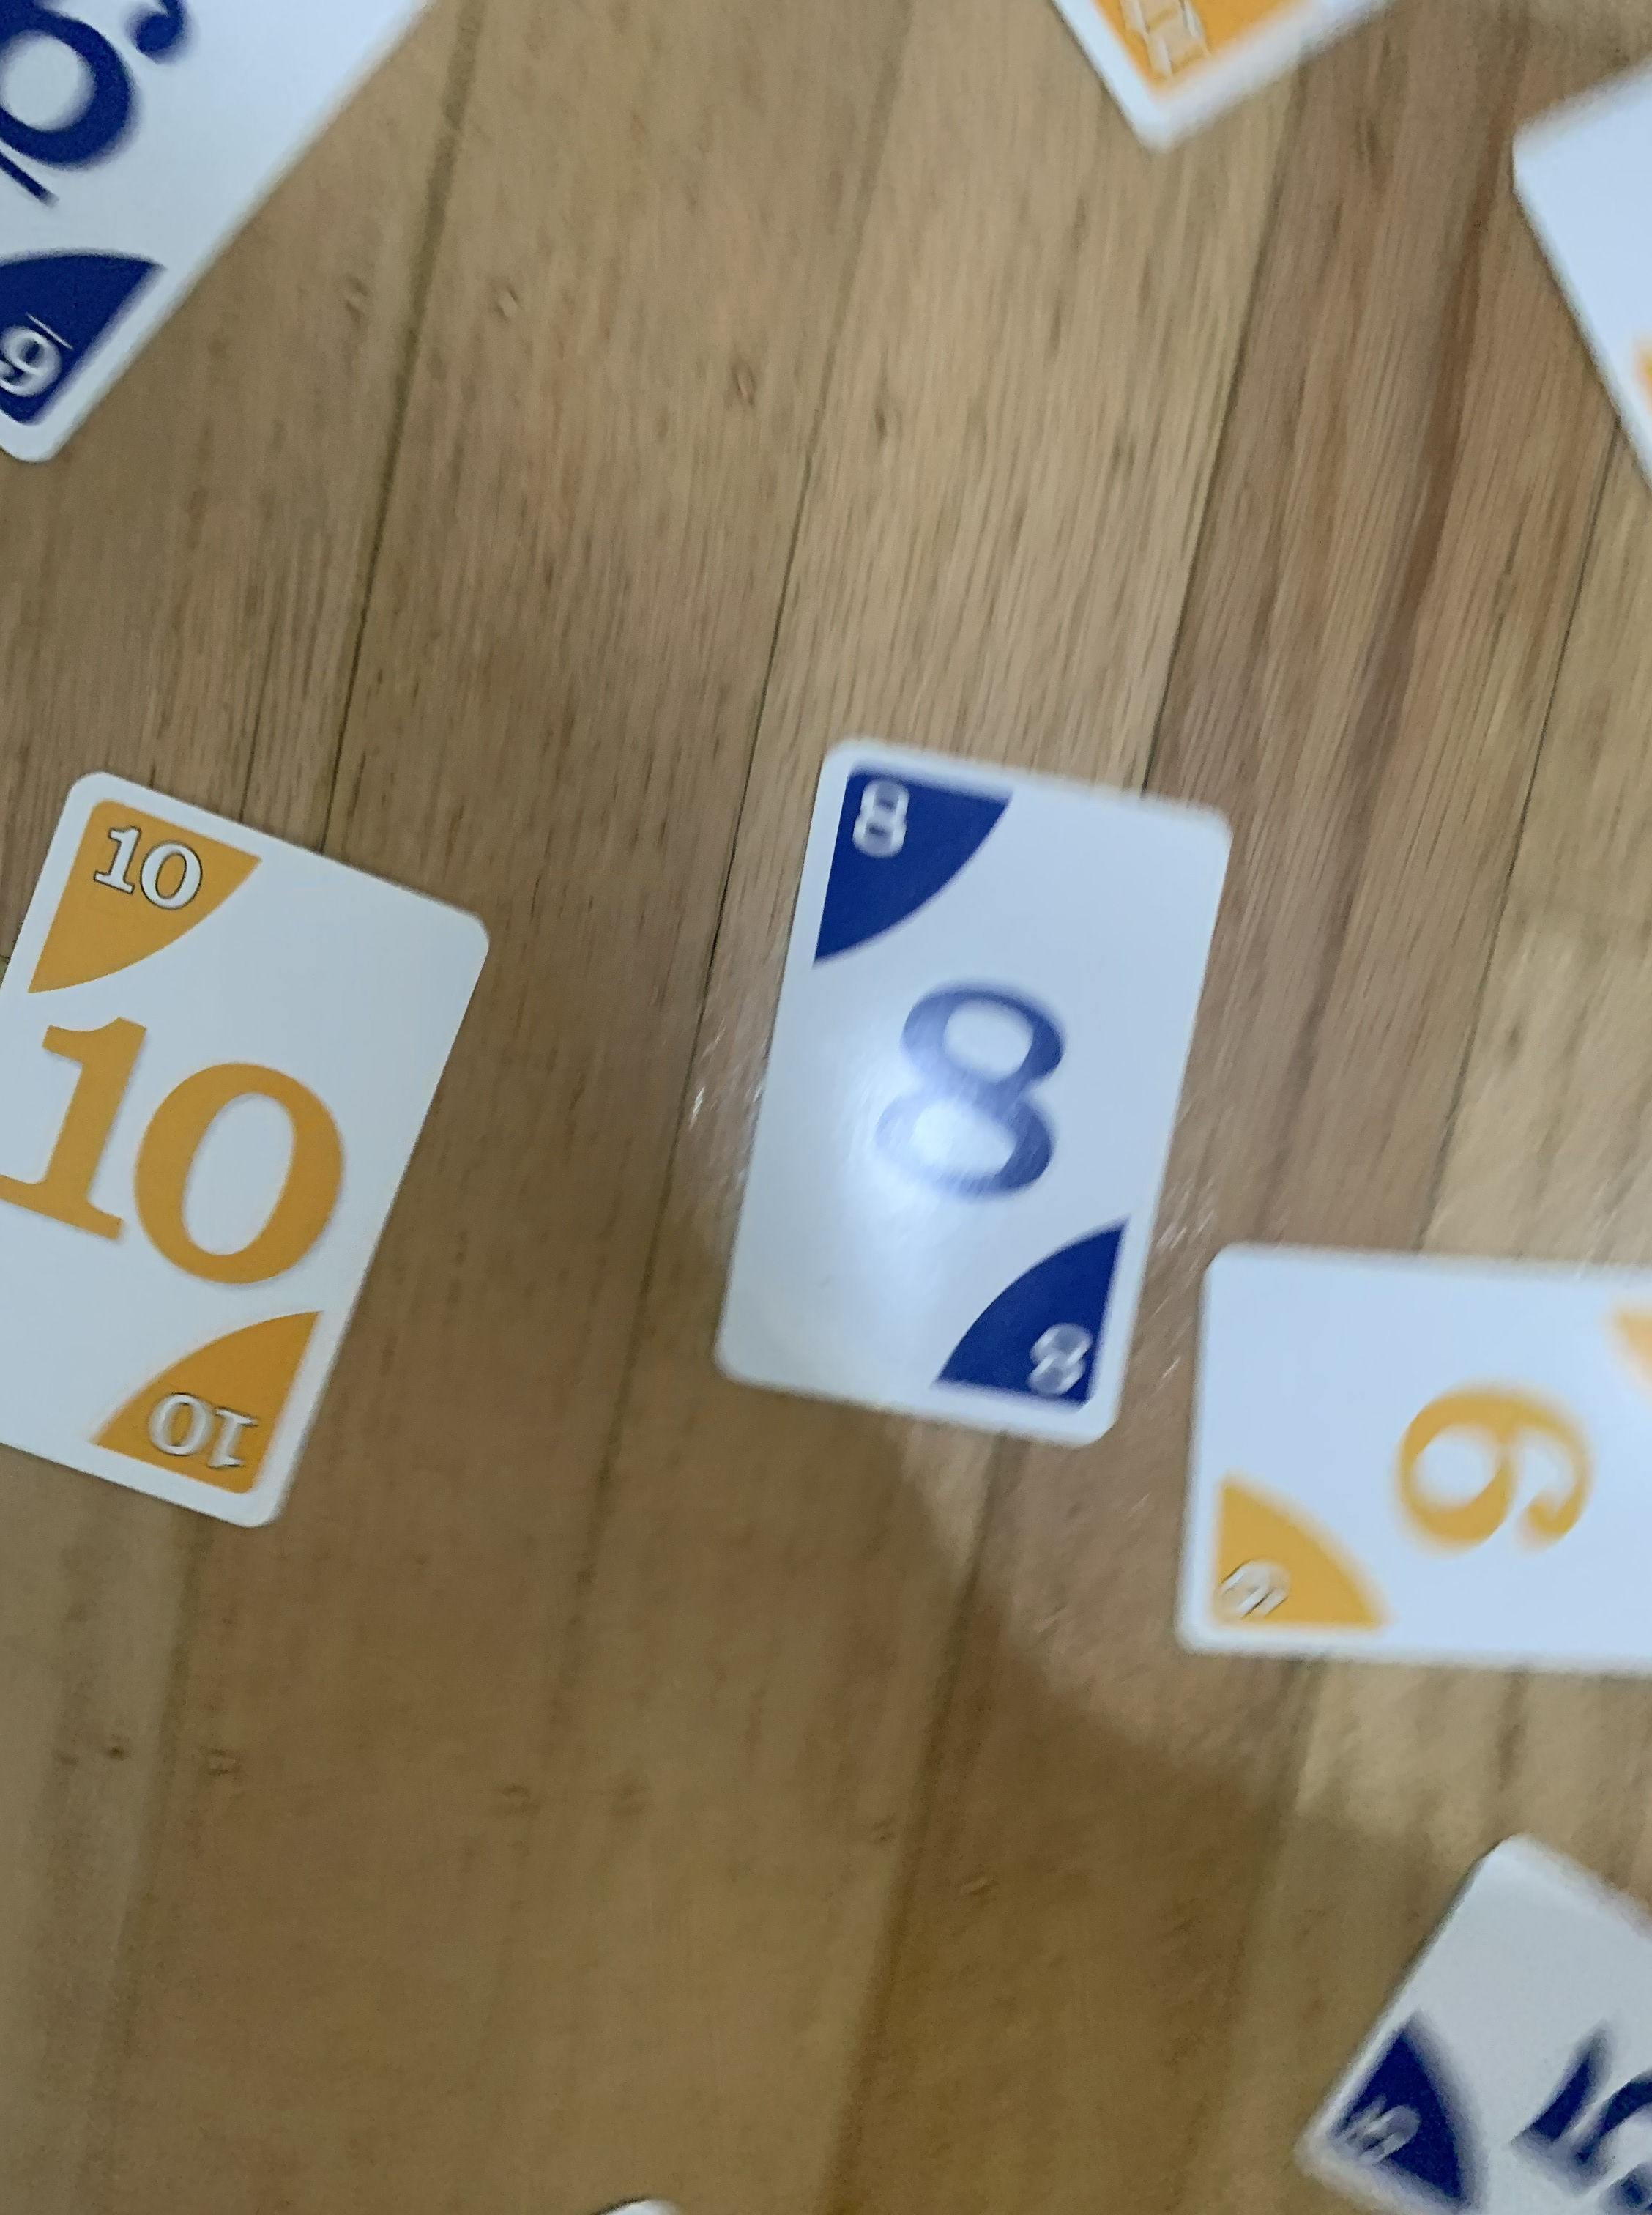eight: (706, 734, 1232, 1453)
ten: (0, 764, 491, 1531)
